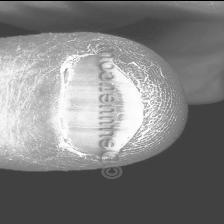Toxin: (116, 60, 154, 158)
